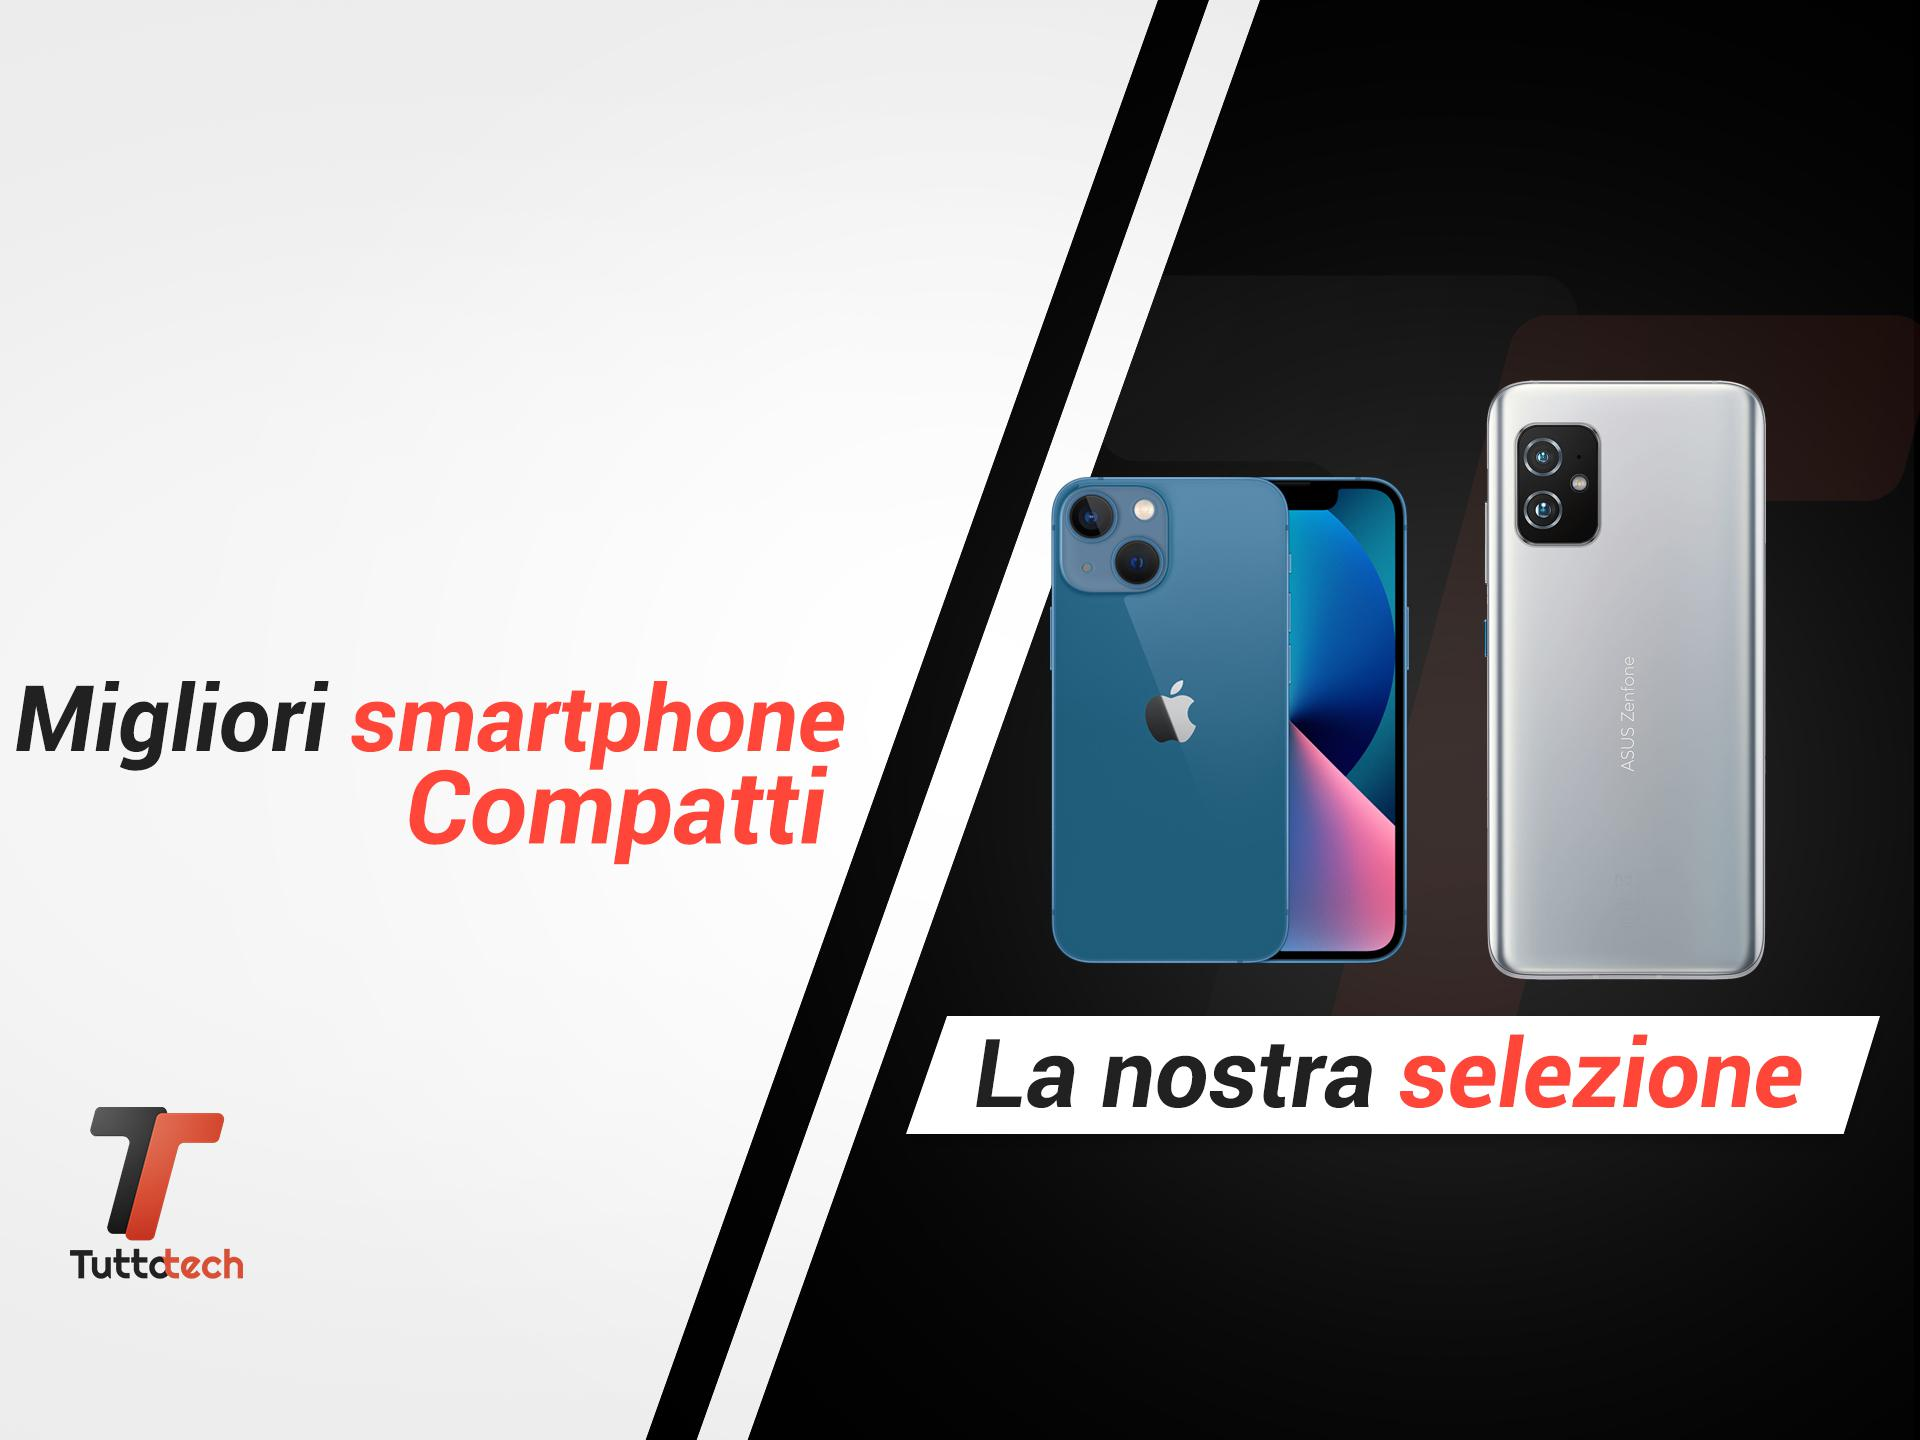Smartphone: (1474, 355, 1784, 1001), (1063, 484, 1418, 1023)
